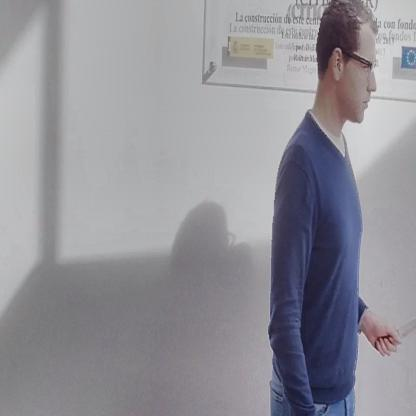knife: (372, 304, 416, 358)
